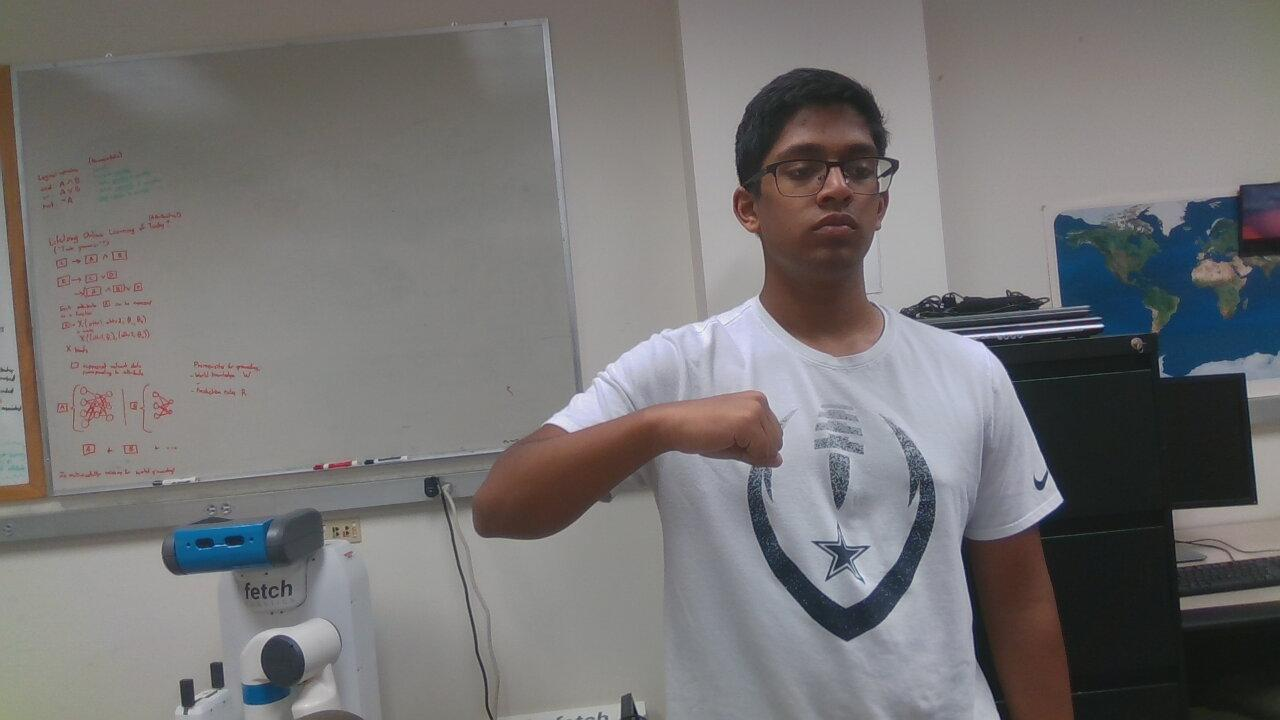fist: (661, 384, 795, 483)
